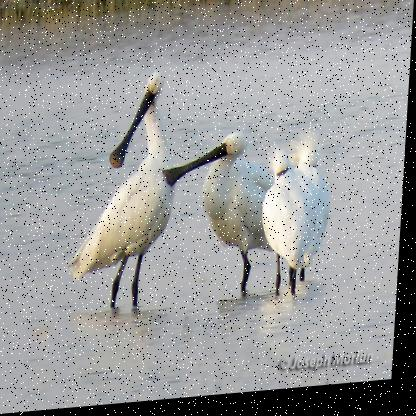Burung: (70, 73, 183, 311), (162, 132, 276, 301), (260, 158, 337, 297)
